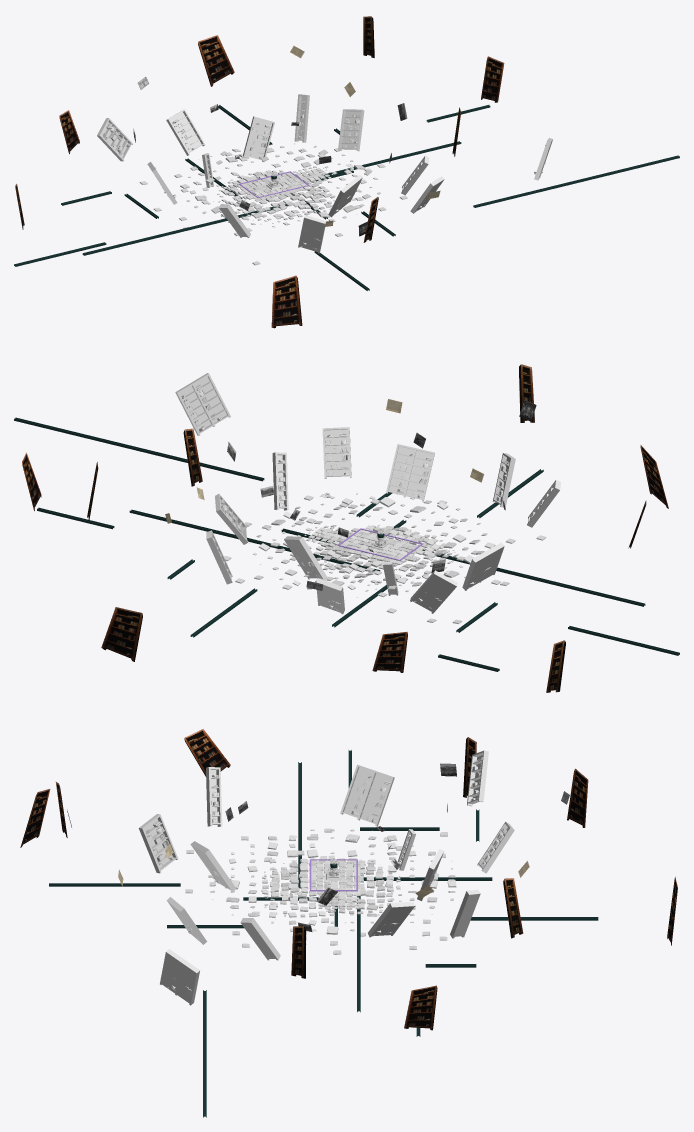
File: SC04_Library_v08_Export.fbx
3 views of the same model, one above another, from view 1: azimuth 30°, elevation 25°; view 2: azimuth 150°, elevation 25°; view 3: azimuth 270°, elevation 25° (orthographic). The views are drawn at different scales.
Parts seen in each view (by area): view 1: Cloner_2, Cloner_4, Plane.018, Plane.016, Cloner_3, Cube.001, Cube.170, Cube.003, Cube.010, Plane.023, Part_01_a.010, Cube.009 (+5 smaller); view 2: Cloner_2, Cloner_4, Cube.006, Cube.012, Plane.016, Cloner_3, Cube.011, Plane.017, Cube.009, Part_01_a.010, Cube.008, Cloner_3_2 (+15 smaller); view 3: Cloner_2, Cloner_4, Cube.008, Cube.012, Cloner_3, Plane.023, Plane.015, Cube.010, Cube.170, Cloner_3_2, Plane.017, Cube.007 (+7 smaller).
Boxes of the visible parts, box(x1,y1,x2,y2) form: Cloner_2: box(213, 170, 335, 224); Cloner_4: box(180, 143, 380, 227); Plane.018: box(271, 275, 302, 328); Plane.016: box(198, 35, 234, 86); Cloner_3: box(237, 173, 310, 201); Cube.001: box(243, 116, 274, 162); Cube.170: box(338, 109, 364, 151); Cube.003: box(166, 109, 205, 155); Cube.010: box(298, 215, 326, 253); Plane.023: box(481, 56, 504, 102); Part_01_a.010: box(473, 155, 679, 207); Cube.009: box(97, 118, 132, 161); Cloner_2: box(313, 525, 455, 589); Cloner_4: box(249, 493, 495, 597); Cube.006: box(386, 444, 434, 501); Cube.012: box(175, 373, 230, 435); Plane.016: box(101, 607, 142, 661); Cloner_3: box(335, 532, 424, 564); Cube.011: box(322, 427, 351, 478); Plane.017: box(372, 631, 407, 672); Cube.009: box(410, 570, 457, 613); Part_01_a.010: box(14, 417, 264, 481); Cube.008: box(462, 542, 504, 590); Cloner_3_2: box(224, 495, 546, 624); Cloner_2: box(261, 855, 401, 919); Cloner_4: box(208, 829, 456, 934); Cube.008: box(340, 764, 394, 826); Cube.012: box(160, 949, 199, 1005); Cloner_3: box(309, 861, 360, 896); Plane.023: box(404, 985, 437, 1030); Plane.015: box(184, 729, 230, 776); Cube.010: box(138, 814, 178, 873); Cube.170: box(368, 901, 414, 937); Cloner_3_2: box(185, 828, 455, 954); Plane.017: box(567, 768, 588, 827); Cube.007: box(206, 767, 222, 826).
Size of the model in its own units: 6063 by 1080 by 4608.
